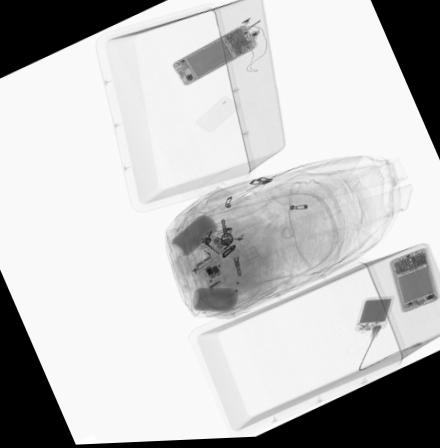Lighter: (196, 244, 221, 264)
